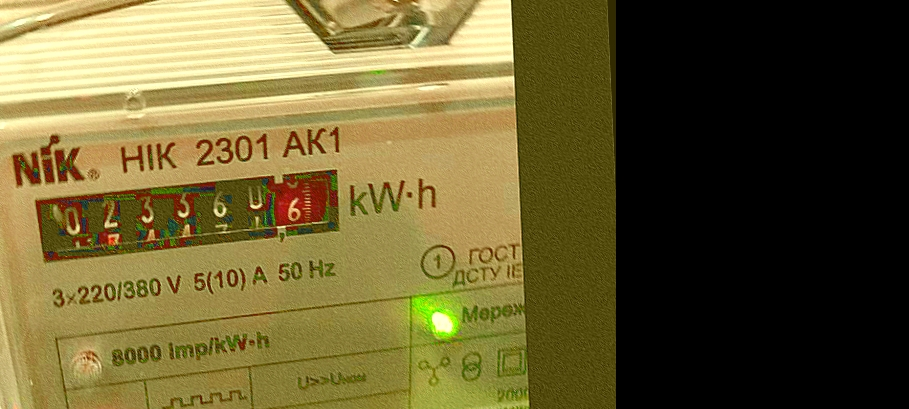0: (60, 204, 84, 239), (243, 181, 266, 213)
2: (99, 197, 121, 231)
3: (173, 187, 193, 221), (135, 194, 155, 226)
6: (283, 193, 306, 227), (208, 187, 230, 221)
screen: (17, 160, 359, 271)
